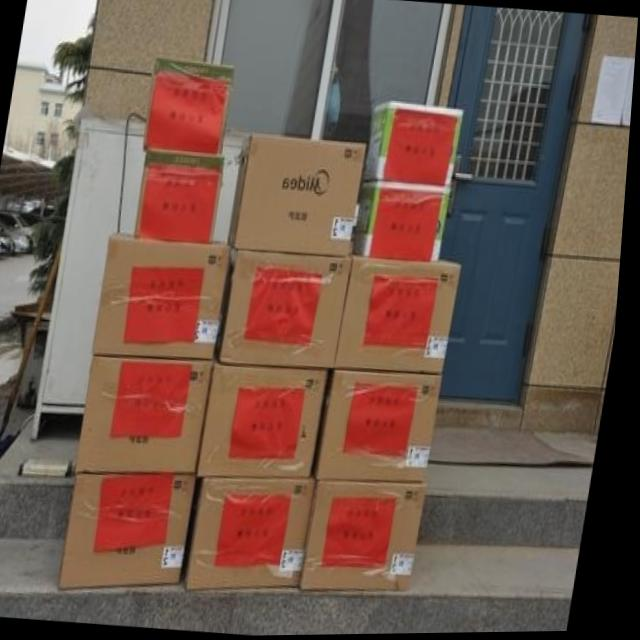box: (97, 232, 236, 359), (231, 133, 369, 257), (220, 248, 356, 369), (81, 356, 218, 474), (67, 473, 204, 590), (204, 363, 333, 479), (191, 477, 323, 590), (339, 257, 465, 375), (320, 370, 448, 484), (309, 482, 433, 593), (137, 149, 229, 245), (145, 56, 235, 154), (363, 101, 464, 187), (354, 182, 453, 262)
